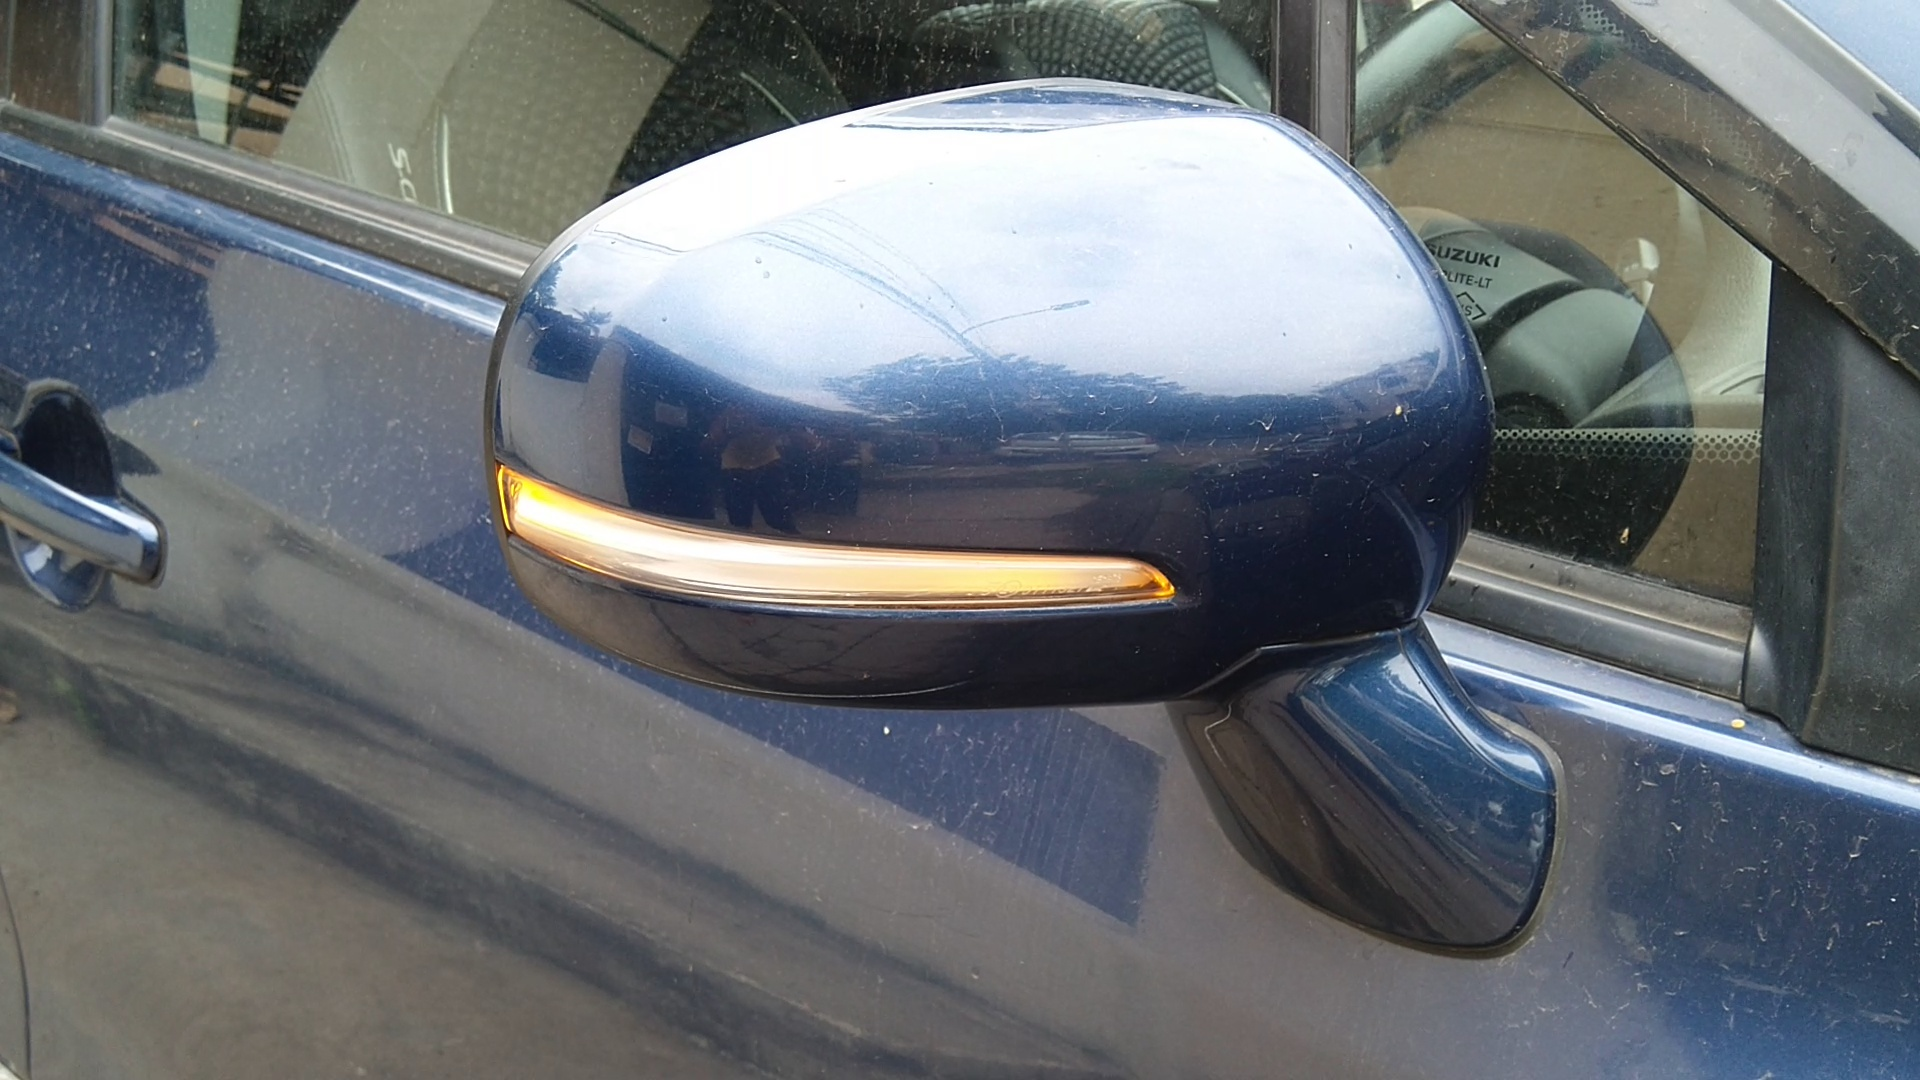ovr_mirror: (446, 42, 1609, 1017)
